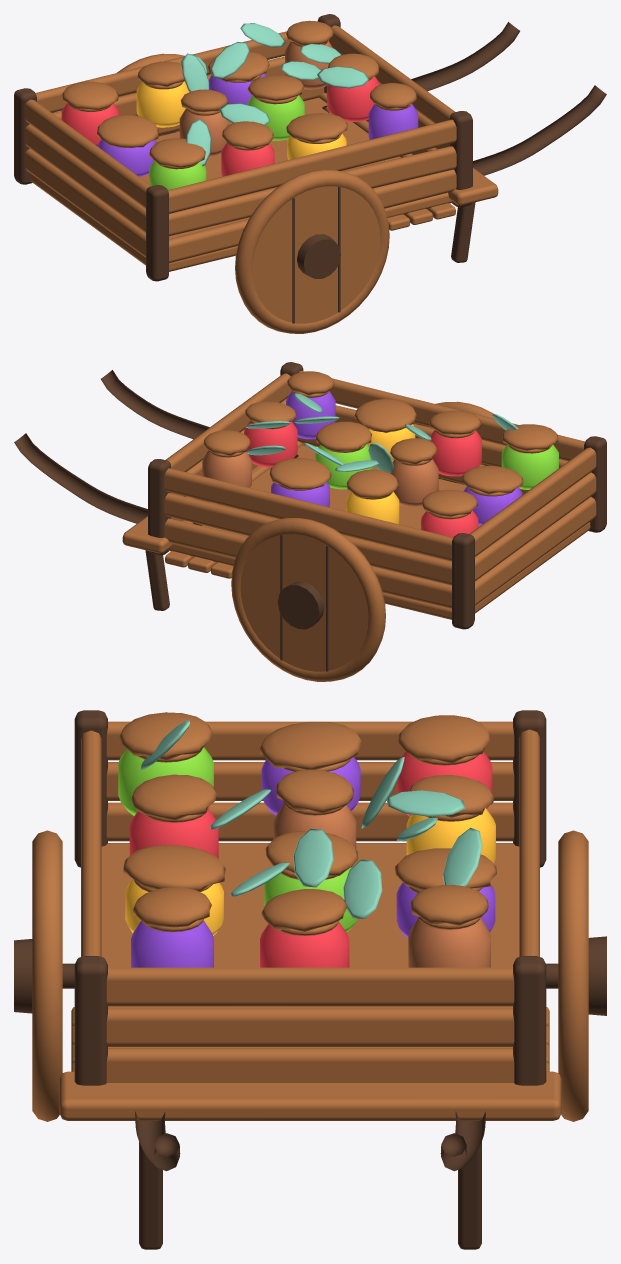
File: GROVE_CART.glb
The picture shows the model from 3 angles, top to bottom: view 1: azimuth 30°, elevation 25°; view 2: azimuth 150°, elevation 25°; view 3: azimuth 270°, elevation 25°; orthographic projection. The views are drawn at different scales.
Visible parts, largest first — view 1: cart_planks, wheels, jar_lids, cart_frame, herb_leaves, jars_JellyStrawberry, jars_JellyGrape, jars_JellyHoney, jars_JellyLime, wheel_hubs, jars_HearthRoof; view 2: cart_planks, wheels, jar_lids, cart_frame, jars_JellyStrawberry, jars_HearthRoof, jars_JellyGrape, jars_JellyLime, herb_leaves, wheel_hubs, jars_JellyHoney; view 3: cart_planks, jar_lids, cart_frame, wheels, herb_leaves, jars_JellyStrawberry, jars_JellyGrape, jars_HearthRoof, jars_JellyLime, jars_JellyHoney, wheel_hubs.
Boxes of the visible parts, left/top/right/bottom form: cart_planks: left=24, top=25, right=498, bottom=271; wheels: left=117, top=53, right=389, bottom=333; jar_lids: left=62, top=20, right=416, bottom=169; cart_frame: left=14, top=14, right=606, bottom=281; herb_leaves: left=181, top=23, right=368, bottom=166; jars_JellyStrawberry: left=61, top=76, right=379, bottom=176; jars_JellyGrape: left=98, top=73, right=418, bottom=176; jars_JellyHoney: left=136, top=81, right=346, bottom=160; jars_JellyLime: left=149, top=95, right=304, bottom=189; wheel_hubs: left=134, top=92, right=340, bottom=323; jars_HearthRoof: left=179, top=41, right=332, bottom=156; cart_planks: left=122, top=371, right=596, bottom=619; wheels: left=231, top=401, right=493, bottom=681; jar_lids: left=203, top=371, right=558, bottom=519; cart_frame: left=14, top=362, right=606, bottom=629; jars_JellyStrawberry: left=244, top=421, right=481, bottom=537; jars_HearthRoof: left=202, top=450, right=438, bottom=507; jars_JellyGrape: left=271, top=391, right=522, bottom=525; jars_JellyLime: left=315, top=444, right=558, bottom=489; herb_leaves: left=246, top=393, right=518, bottom=472; wheel_hubs: left=277, top=464, right=487, bottom=671; jars_JellyHoney: left=346, top=424, right=415, bottom=524; cart_planks: left=59, top=721, right=561, bottom=1120; jar_lids: left=119, top=712, right=496, bottom=935; cart_frame: left=74, top=710, right=546, bottom=1249; wheels: left=32, top=830, right=588, bottom=1121; herb_leaves: left=140, top=720, right=482, bottom=918; jars_JellyStrawberry: left=129, top=751, right=492, bottom=967; jars_JellyGrape: left=131, top=757, right=495, bottom=967; jars_HearthRoof: left=273, top=804, right=490, bottom=967; jars_JellyLime: left=118, top=747, right=357, bottom=932; jars_JellyHoney: left=125, top=808, right=495, bottom=935; wheel_hubs: left=14, top=936, right=606, bottom=1015.
Size of the model in its own units: 11.52 by 4.68 by 7.44.
